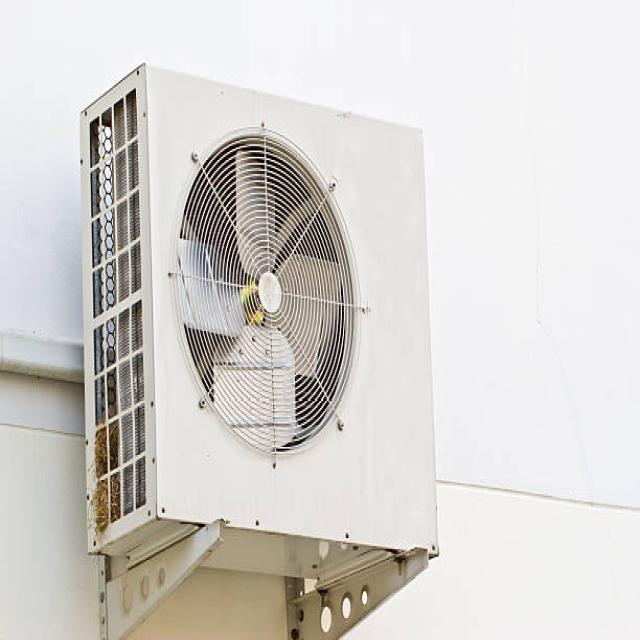Fan: (82, 53, 439, 592)
